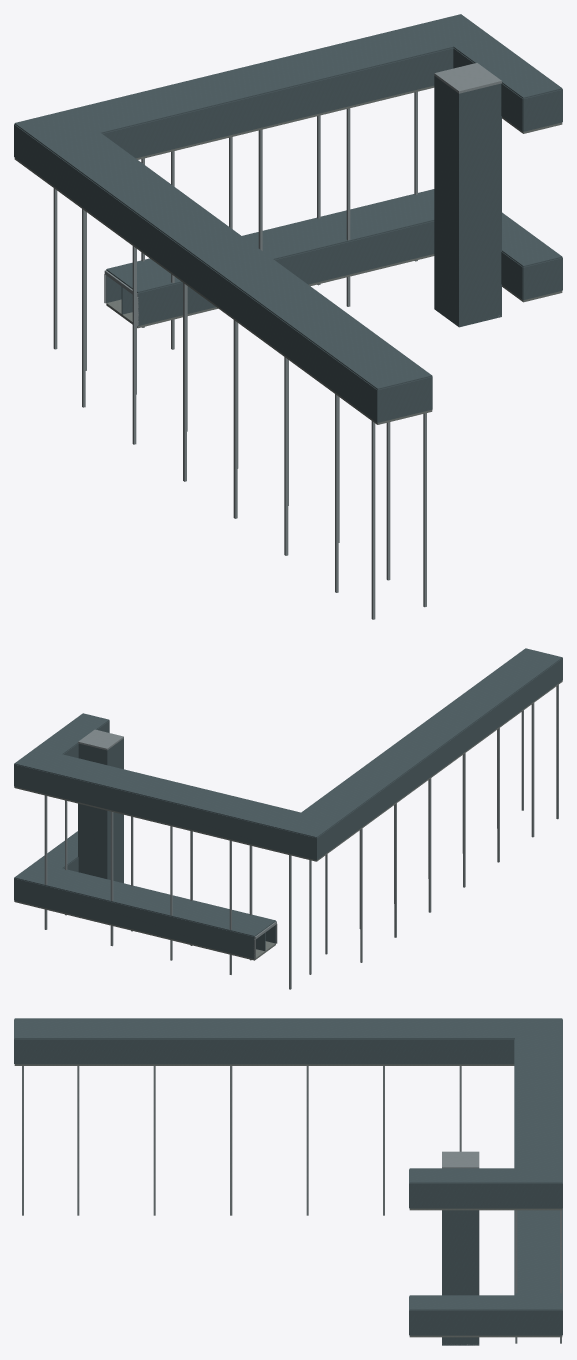
Rendered from D04_PORT_CENTRAL_STAFF_STRUCTURE_r001.glb.
The picture shows the model from 3 angles, top to bottom: view 1: azimuth 30°, elevation 25°; view 2: azimuth 150°, elevation 25°; view 3: azimuth 270°, elevation 25°; orthographic projection. The views are drawn at different scales.
Visible parts, largest first — view 1: PCS_D04Boundary1, PCS_D04Boundary4, PCS_ShaftNorth, PCS_D04Roof0, PCS_D04Roof1, PCS_D04Roof9, PCS_D01Boundary2, PCS_ShaftWest, PCS_D04Roof8, PCS_D01Roof9, PCS_D01Roof0, PCS_D04Boundary2 (+23 smaller); view 2: PCS_D04Boundary13, PCS_D01Boundary0, PCS_D04Boundary1, PCS_D04Roof0, PCS_D04Roof1, PCS_D04Roof9, PCS_D01Roof9, PCS_D04Roof8, PCS_ShaftSouth, PCS_D01Roof0, PCS_ShaftWest, PCS_D04Roof6 (+11 smaller); view 3: PCS_D04Boundary3, PCS_D04Roof1, PCS_D04Roof0, PCS_D04Roof9, PCS_D04Roof8, PCS_D01Roof9, PCS_ShaftEastBlank1, PCS_D01Boundary9, PCS_D04Boundary11, PCS_D01Roof0, PCS_D01Boundary10, PCS_D04Boundary12 (+11 smaller).
Boxes of the visible parts, bbox=[...] form: PCS_D04Boundary1: bbox=[45, 147, 377, 422]; PCS_D04Boundary4: bbox=[102, 48, 453, 158]; PCS_ShaftNorth: bbox=[460, 83, 501, 326]; PCS_D04Roof0: bbox=[46, 133, 377, 389]; PCS_D04Roof1: bbox=[101, 133, 432, 389]; PCS_D04Roof9: bbox=[15, 14, 458, 132]; PCS_D01Boundary2: bbox=[137, 221, 434, 325]; PCS_ShaftWest: bbox=[434, 76, 460, 327]; PCS_D04Roof8: bbox=[101, 14, 460, 133]; PCS_D01Roof9: bbox=[108, 189, 434, 268]; PCS_D01Roof0: bbox=[106, 218, 434, 292]; PCS_D04Boundary2: bbox=[377, 377, 432, 422]; PCS_D04Boundary13: bbox=[14, 764, 316, 860]; PCS_D01Boundary0: bbox=[14, 878, 254, 958]; PCS_D04Boundary1: bbox=[338, 658, 562, 844]; PCS_D04Roof0: bbox=[301, 657, 562, 821]; PCS_D04Roof1: bbox=[302, 648, 562, 811]; PCS_D04Roof9: bbox=[14, 763, 316, 837]; PCS_D01Roof9: bbox=[14, 868, 254, 936]; PCS_D04Roof8: bbox=[15, 754, 297, 811]; PCS_ShaftSouth: bbox=[78, 743, 106, 878]; PCS_D01Roof0: bbox=[67, 869, 275, 936]; PCS_ShaftWest: bbox=[106, 738, 123, 883]; PCS_D04Roof6: bbox=[36, 713, 82, 747]; PCS_D04Boundary3: bbox=[14, 1039, 514, 1064]; PCS_D04Roof1: bbox=[14, 1018, 514, 1039]; PCS_D04Roof0: bbox=[19, 1018, 514, 1038]; PCS_D04Roof9: bbox=[515, 1018, 562, 1181]; PCS_D04Roof8: bbox=[515, 1039, 562, 1182]; PCS_D01Roof9: bbox=[515, 1210, 562, 1309]; PCS_ShaftEastBlank1: bbox=[444, 1210, 476, 1295]; PCS_D01Boundary9: bbox=[409, 1310, 514, 1335]; PCS_D04Boundary11: bbox=[409, 1183, 514, 1208]; PCS_D01Roof0: bbox=[515, 1210, 549, 1294]; PCS_D01Boundary10: bbox=[515, 1310, 562, 1335]; PCS_D04Boundary12: bbox=[515, 1183, 562, 1208].
Size of the model in its own units: 45.92 by 23.14 by 64.62.
Materials: 10 (10 with a texture image).
